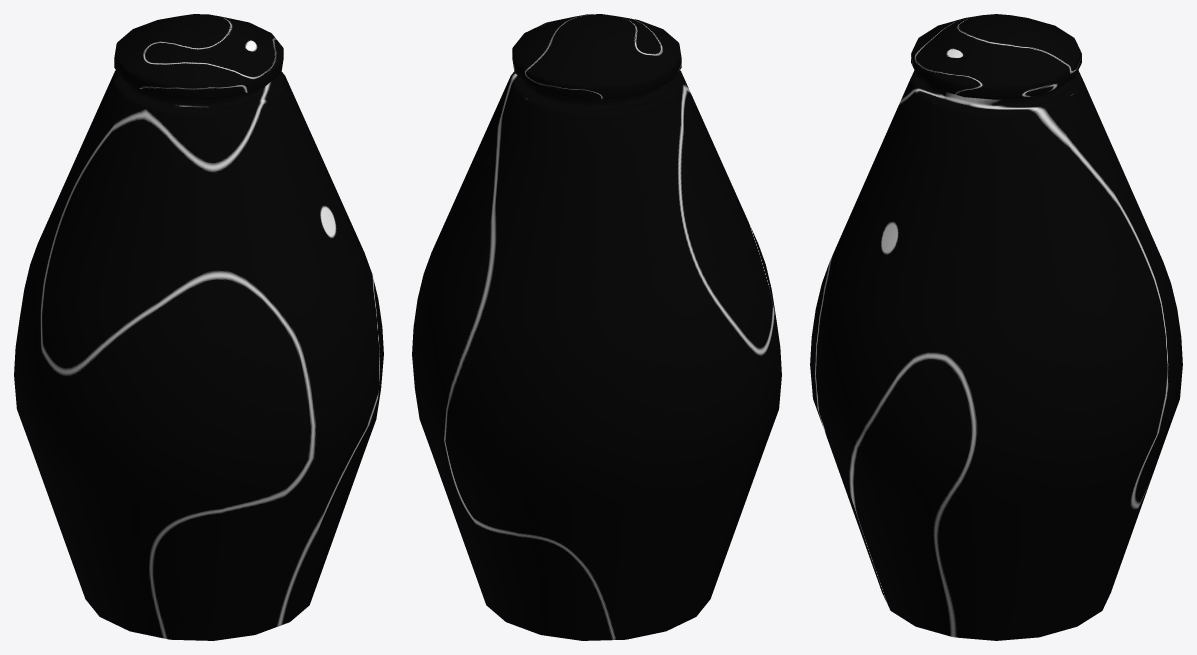
The model's file is urne1.gltf.
3 views of the same model, side by side, from view 1: azimuth 30°, elevation 25°; view 2: azimuth 150°, elevation 25°; view 3: azimuth 270°, elevation 25° (orthographic).
Parts seen in each view (by area): view 1: BezierCurve.001, BezierCurve.002; view 2: BezierCurve.001, BezierCurve.002; view 3: BezierCurve.001, BezierCurve.002.
Part boxes in pixels (box(x1,y1,x2,y2)): BezierCurve.001: box(14, 70, 383, 640); BezierCurve.002: box(114, 14, 283, 99); BezierCurve.001: box(412, 70, 781, 640); BezierCurve.002: box(512, 14, 681, 99); BezierCurve.001: box(810, 70, 1182, 640); BezierCurve.002: box(911, 14, 1081, 99).
Size of the model in its own units: 2.62 by 4.4 by 2.62.
Materials: 2 (2 with a texture image).
